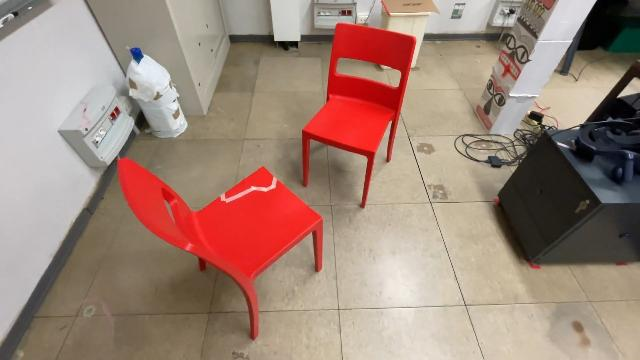Chair: (113, 156, 324, 342), (302, 18, 418, 211)
